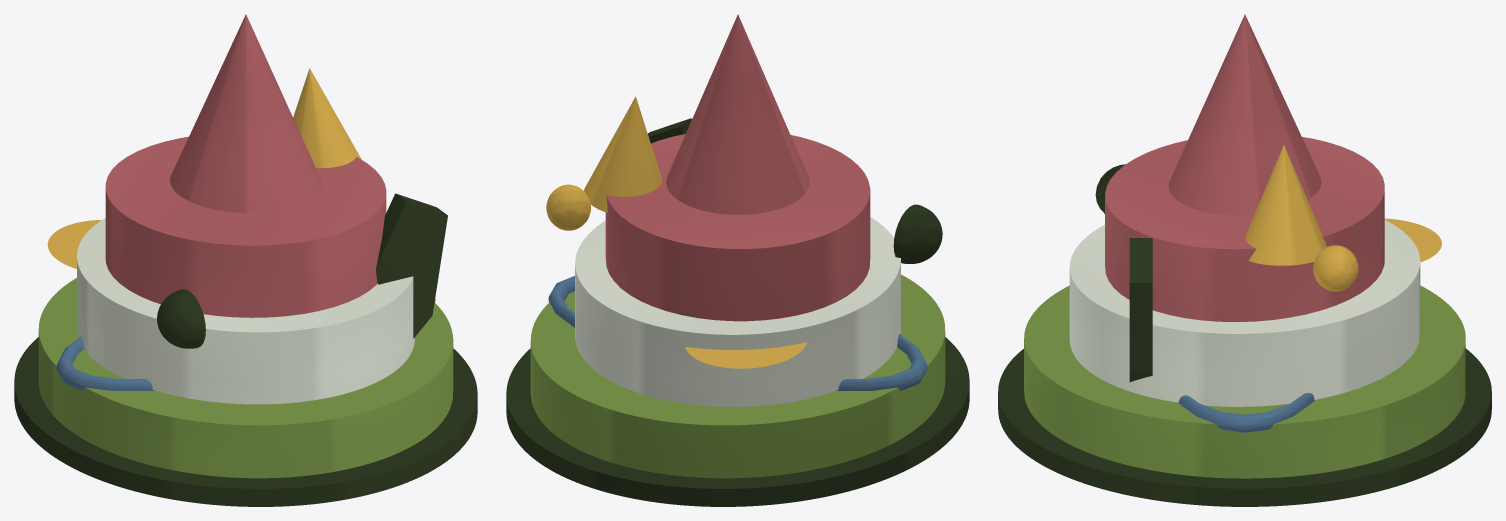
The model's file is 0642_地貌图鉴_马达加斯加石林.glb.
The picture shows the model from 3 angles, left to right: view 1: azimuth 30°, elevation 25°; view 2: azimuth 150°, elevation 25°; view 3: azimuth 270°, elevation 25°; orthographic projection.
Parts seen in each view (by area): view 1: card_0642; view 2: card_0642; view 3: card_0642.
Part boxes in pixels (box(x1,y1,x2,y2)): card_0642: box(14, 14, 477, 506); card_0642: box(506, 14, 969, 506); card_0642: box(998, 14, 1491, 506).
Bounding box in the file's own units: 1.05 × 1 × 1.13.
